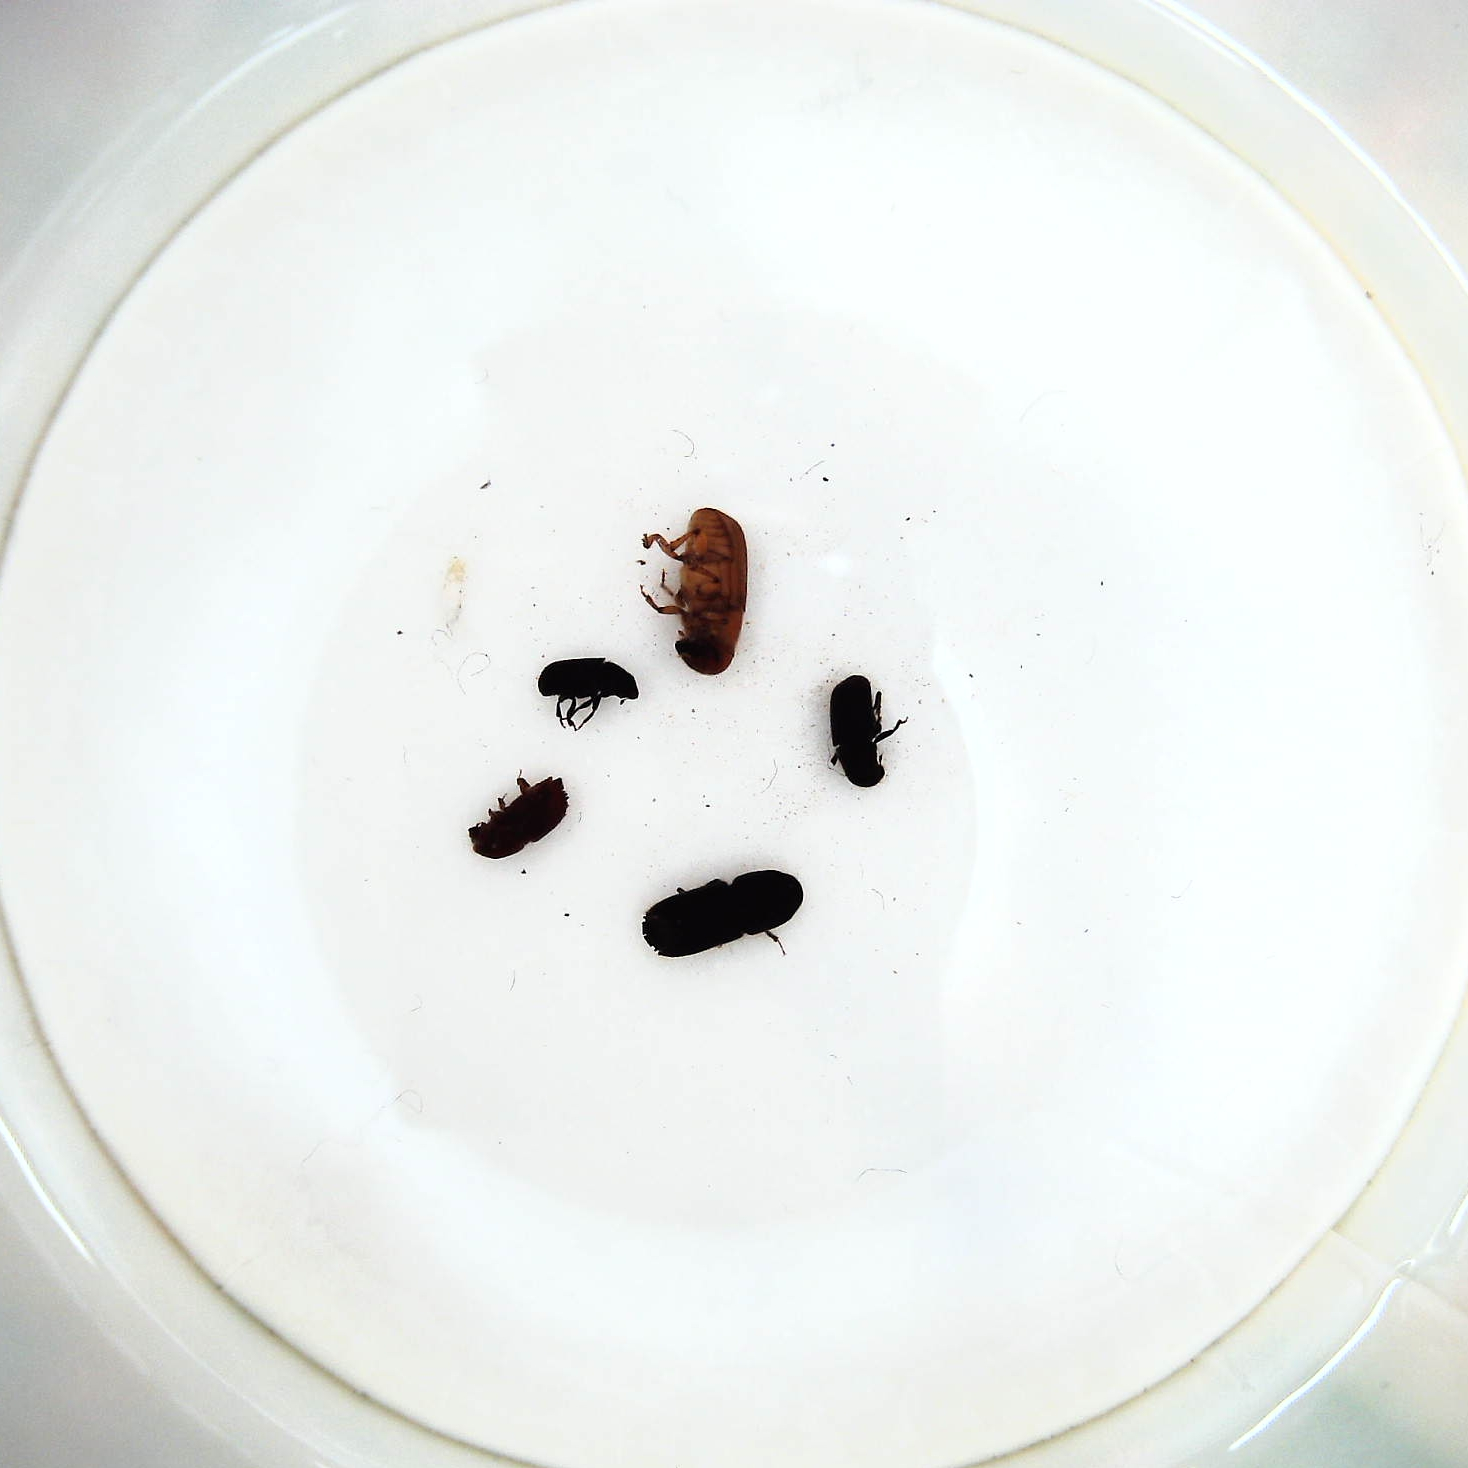Boerner: (637, 868, 811, 963)
Leconte: (639, 501, 751, 678)
armandi: (824, 669, 905, 792)
coleoptera: (536, 653, 643, 735)
linnaeus: (462, 772, 573, 860)
